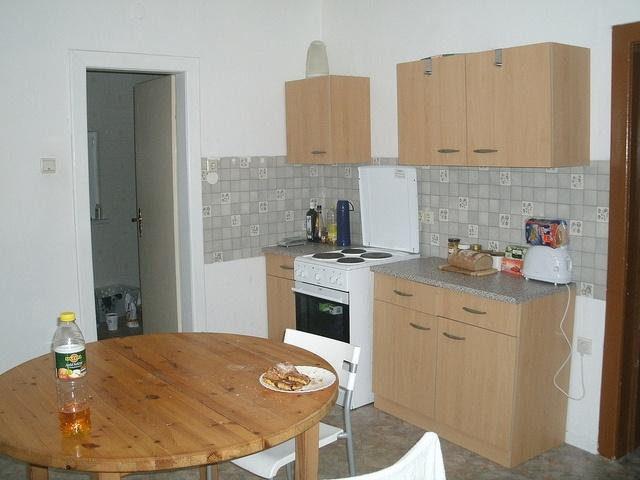Lemari: (371, 270, 519, 469), (395, 39, 553, 169), (284, 72, 332, 166)
Meja: (0, 330, 338, 479)
